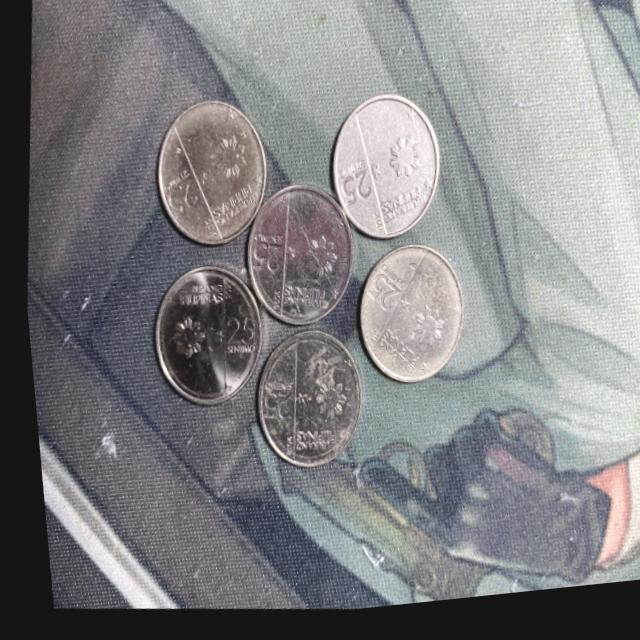25Cent_New_Front: (334, 169, 374, 219), (162, 179, 200, 230), (218, 316, 255, 359), (362, 278, 399, 320), (244, 243, 280, 284), (252, 389, 285, 429)
